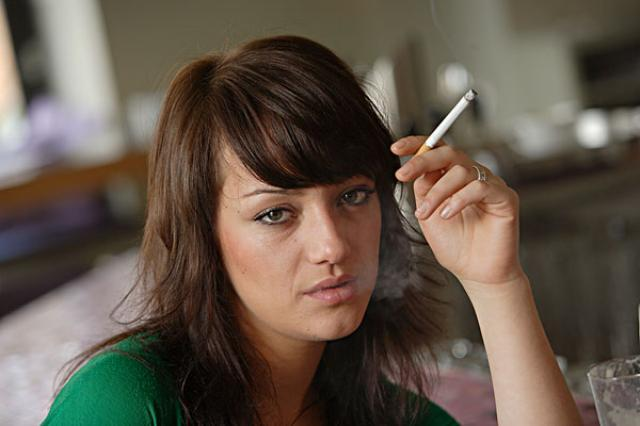SafeDriving: (243, 189, 306, 233), (328, 170, 380, 220)
Smoking: (393, 86, 479, 176)
